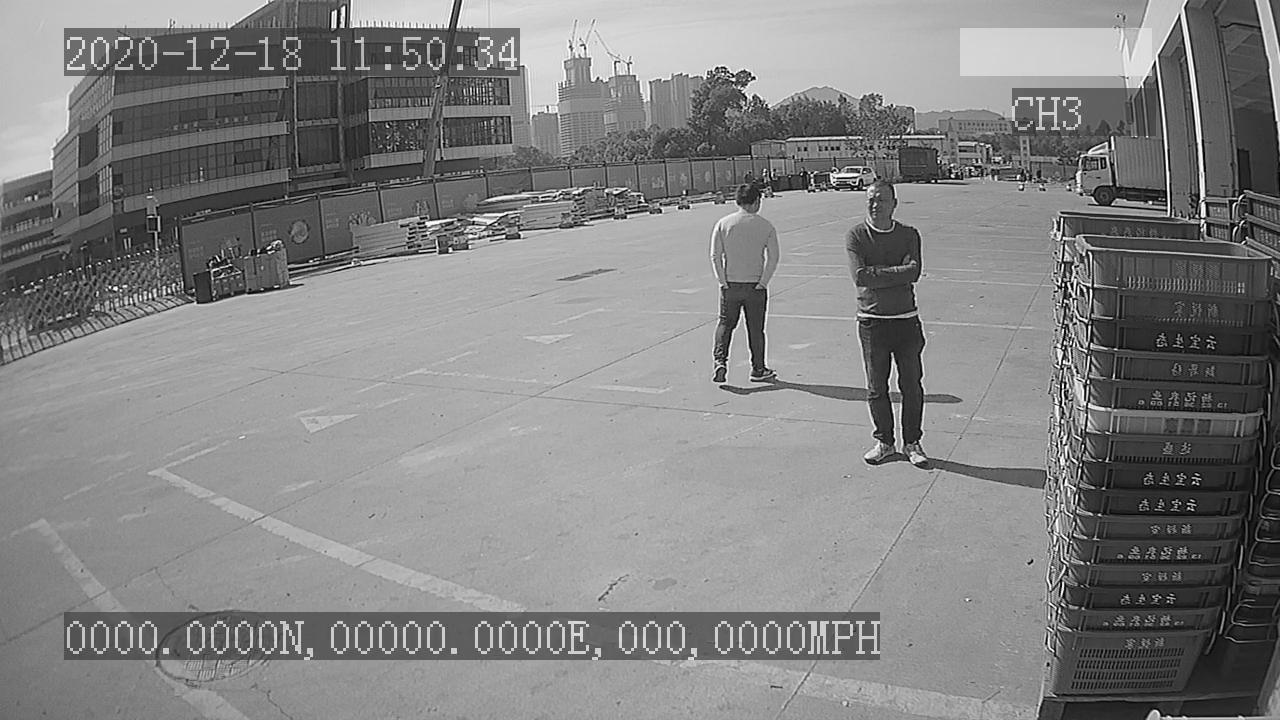person: (838, 177, 934, 472), (704, 179, 788, 388)
